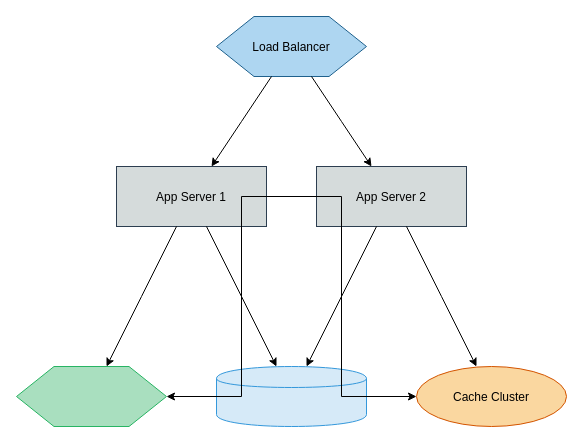
The diagram is 583 pixels wide and 443 high, and some of its shapes have lost their labels. The centre of each missing label's shape, as x and y in pixels:
Database Cluster: point (291, 396)
Kafka Cluster: point (91, 396)
